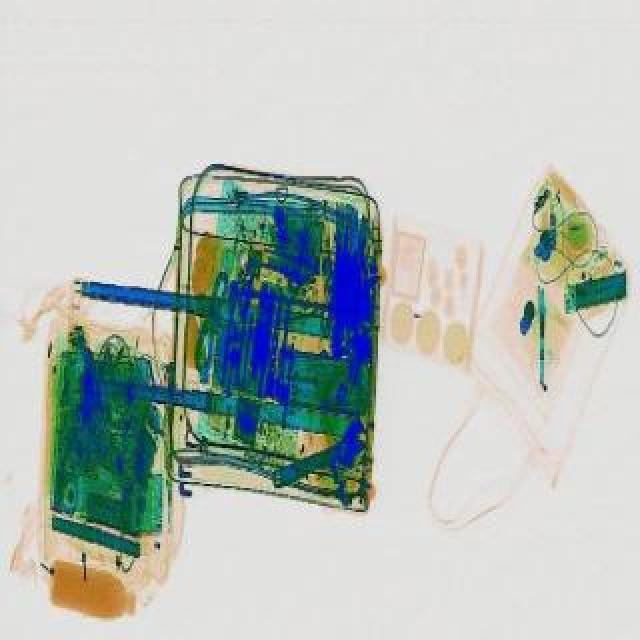scissors: (256, 408, 382, 496)
